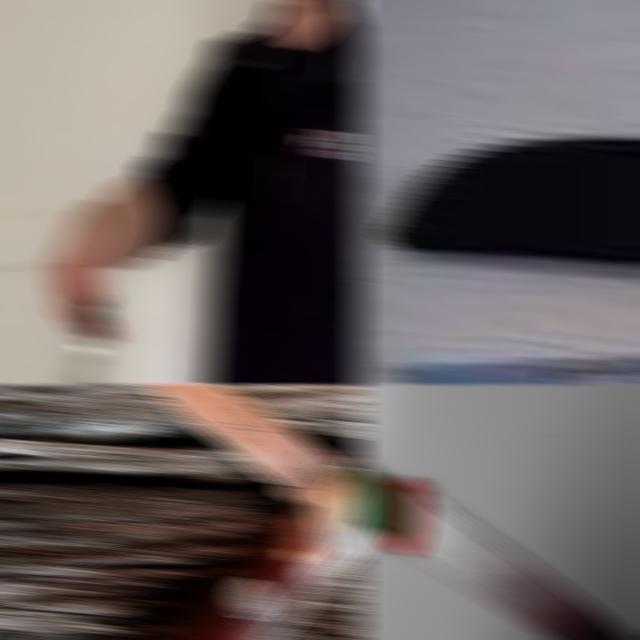Knife: (352, 459, 636, 640)
Knife_Handle: (44, 200, 118, 384)
